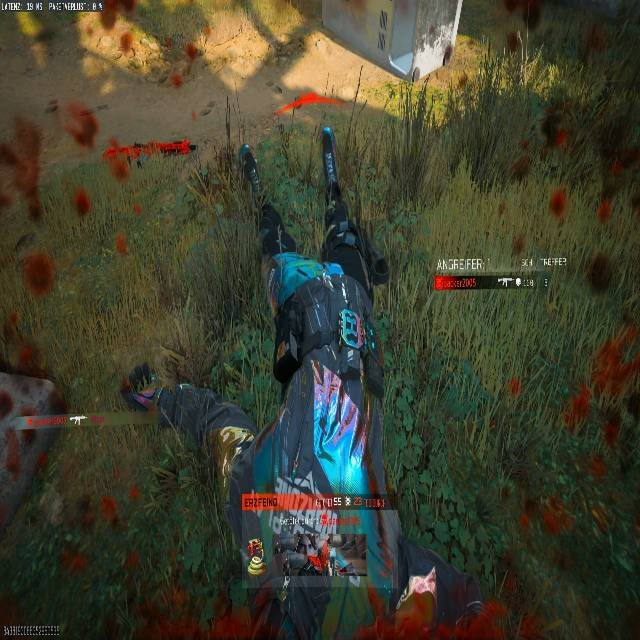player: (249, 514, 354, 640)
